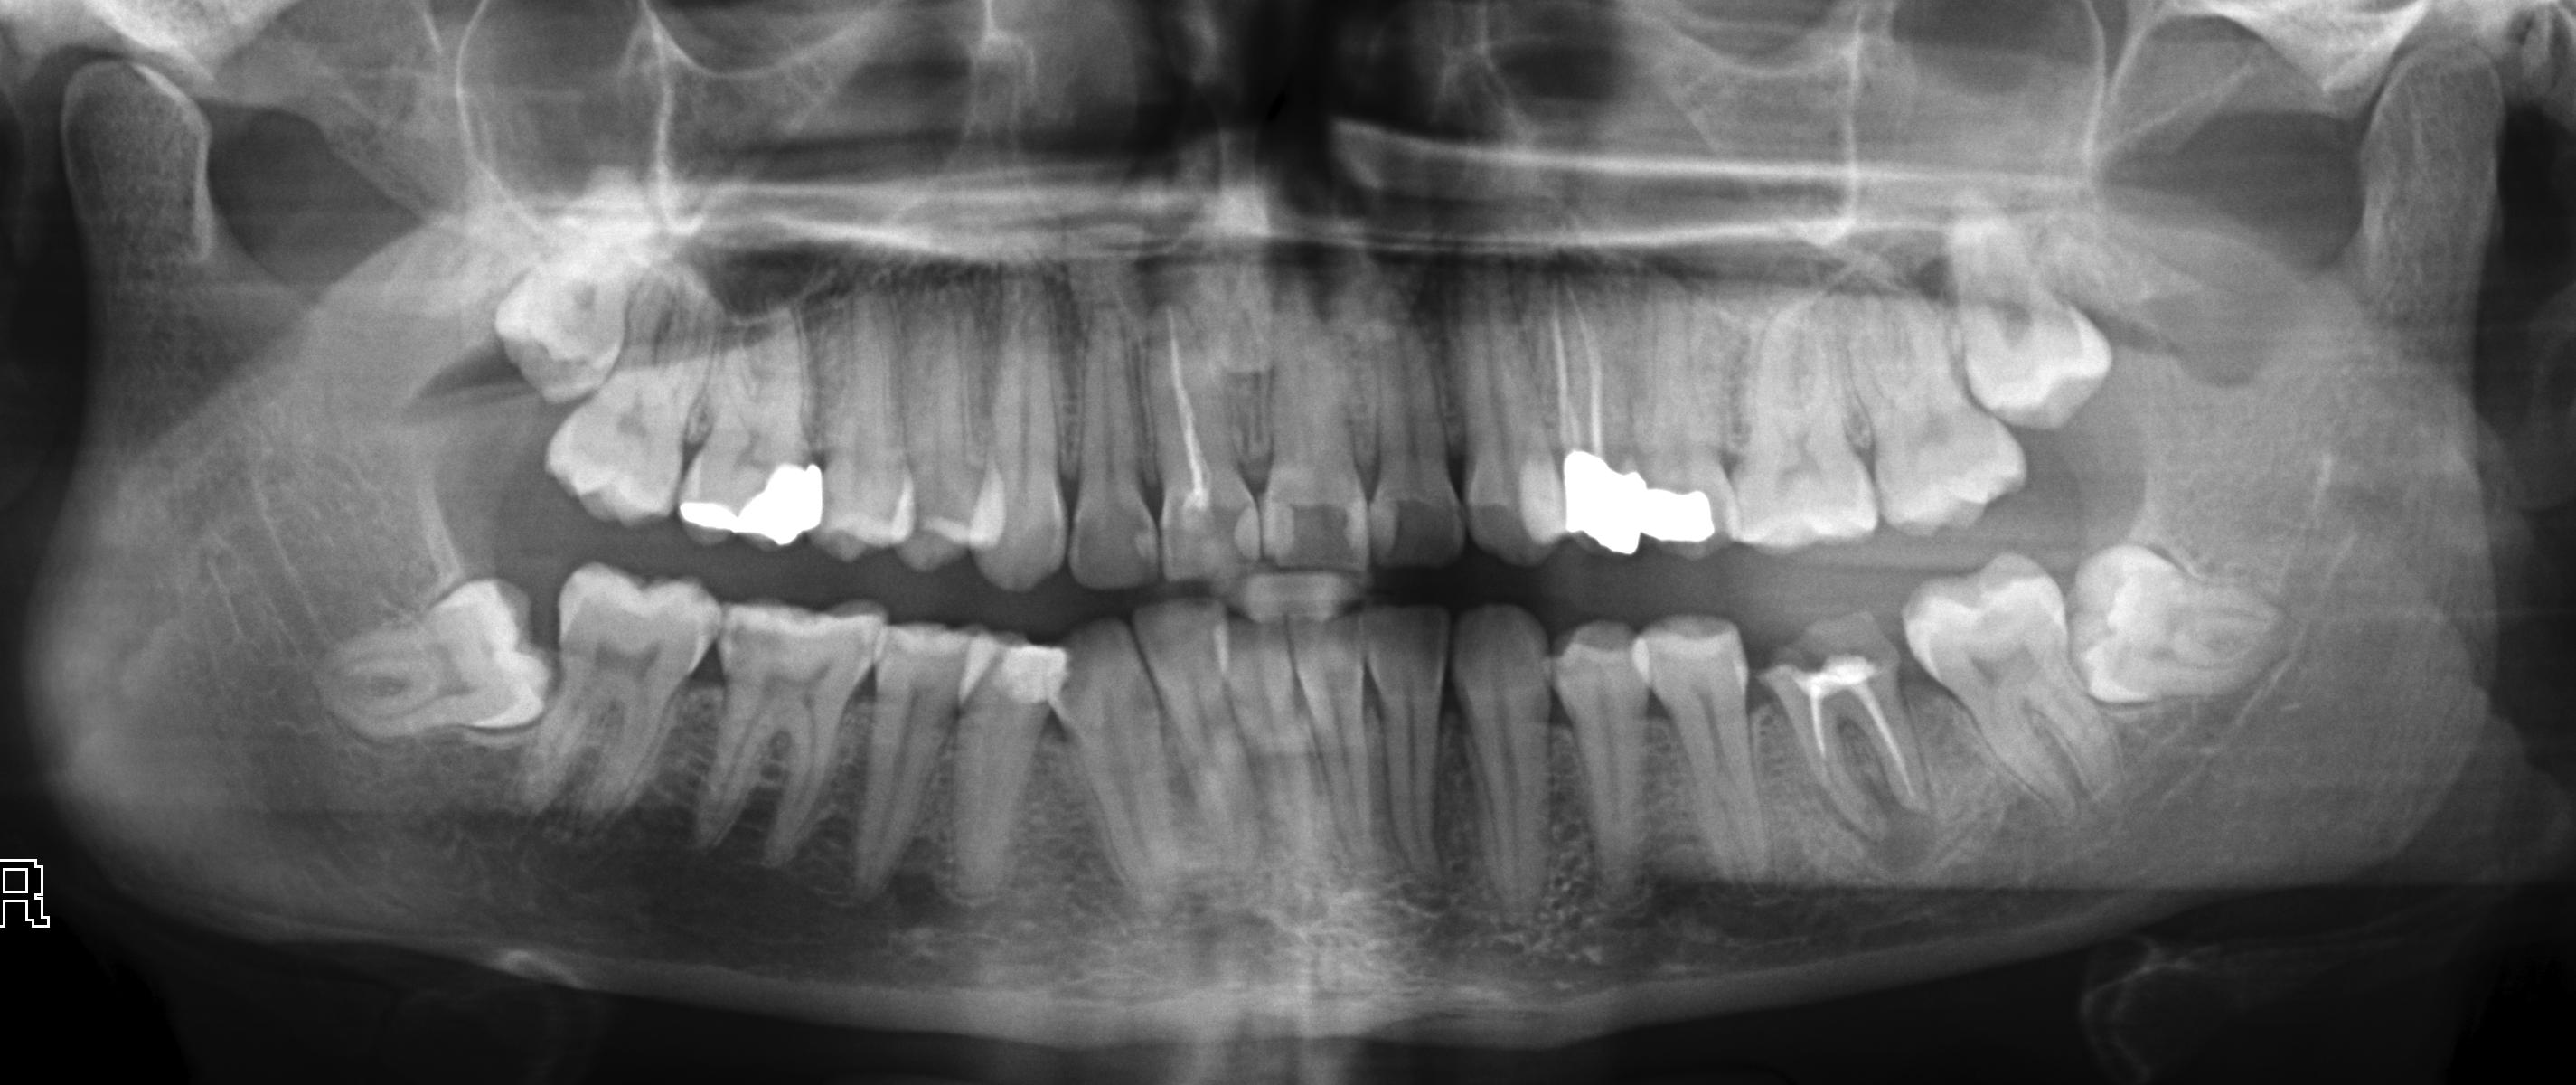Çürük: (1567, 436, 1727, 559), (672, 441, 826, 551)
Çürük Bölgesi: (1782, 628, 1889, 679), (731, 620, 790, 664), (1061, 638, 1083, 700), (1125, 528, 1150, 570), (701, 615, 721, 654)
